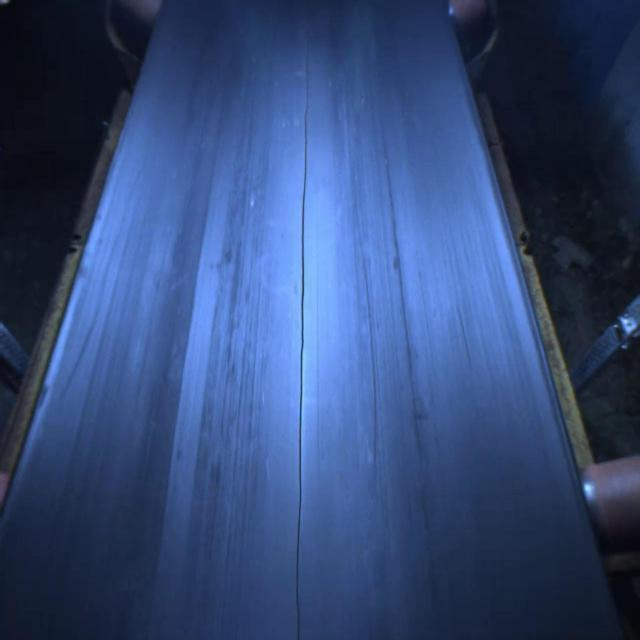Tear: (288, 43, 316, 640)
